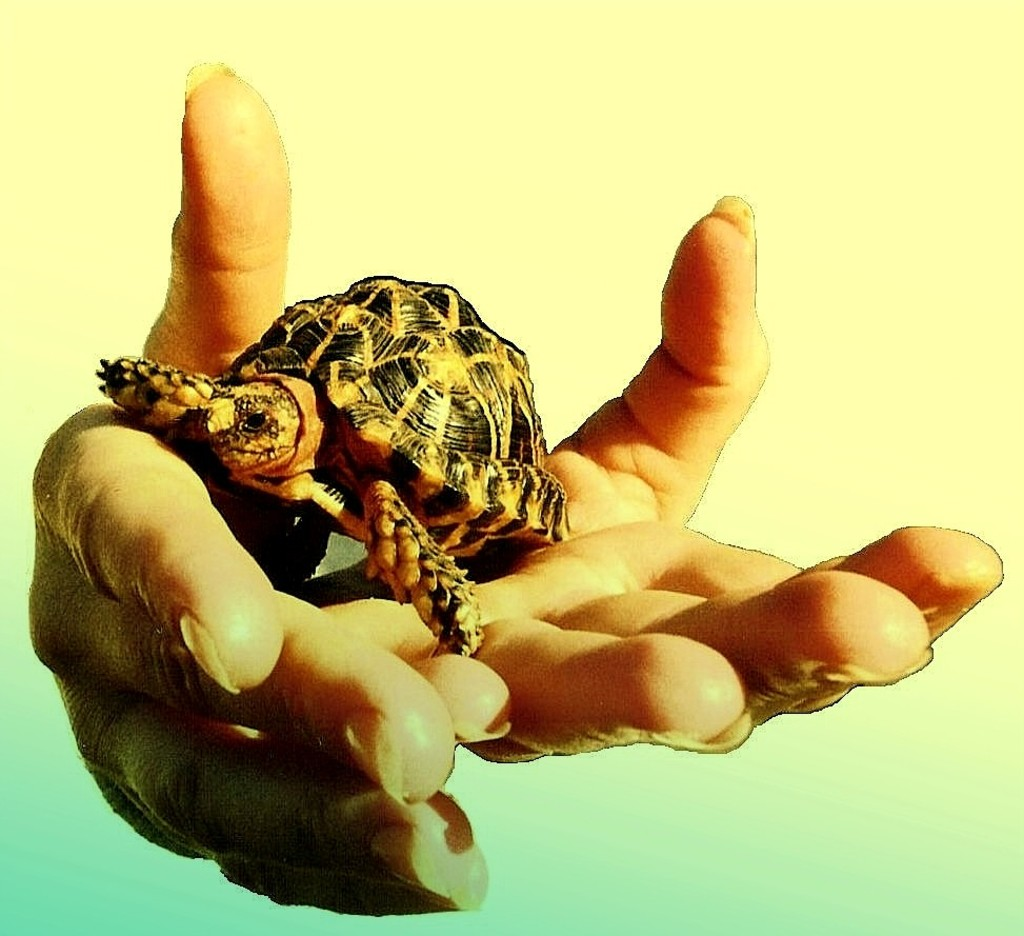Sea turtles: (95, 266, 567, 663)
